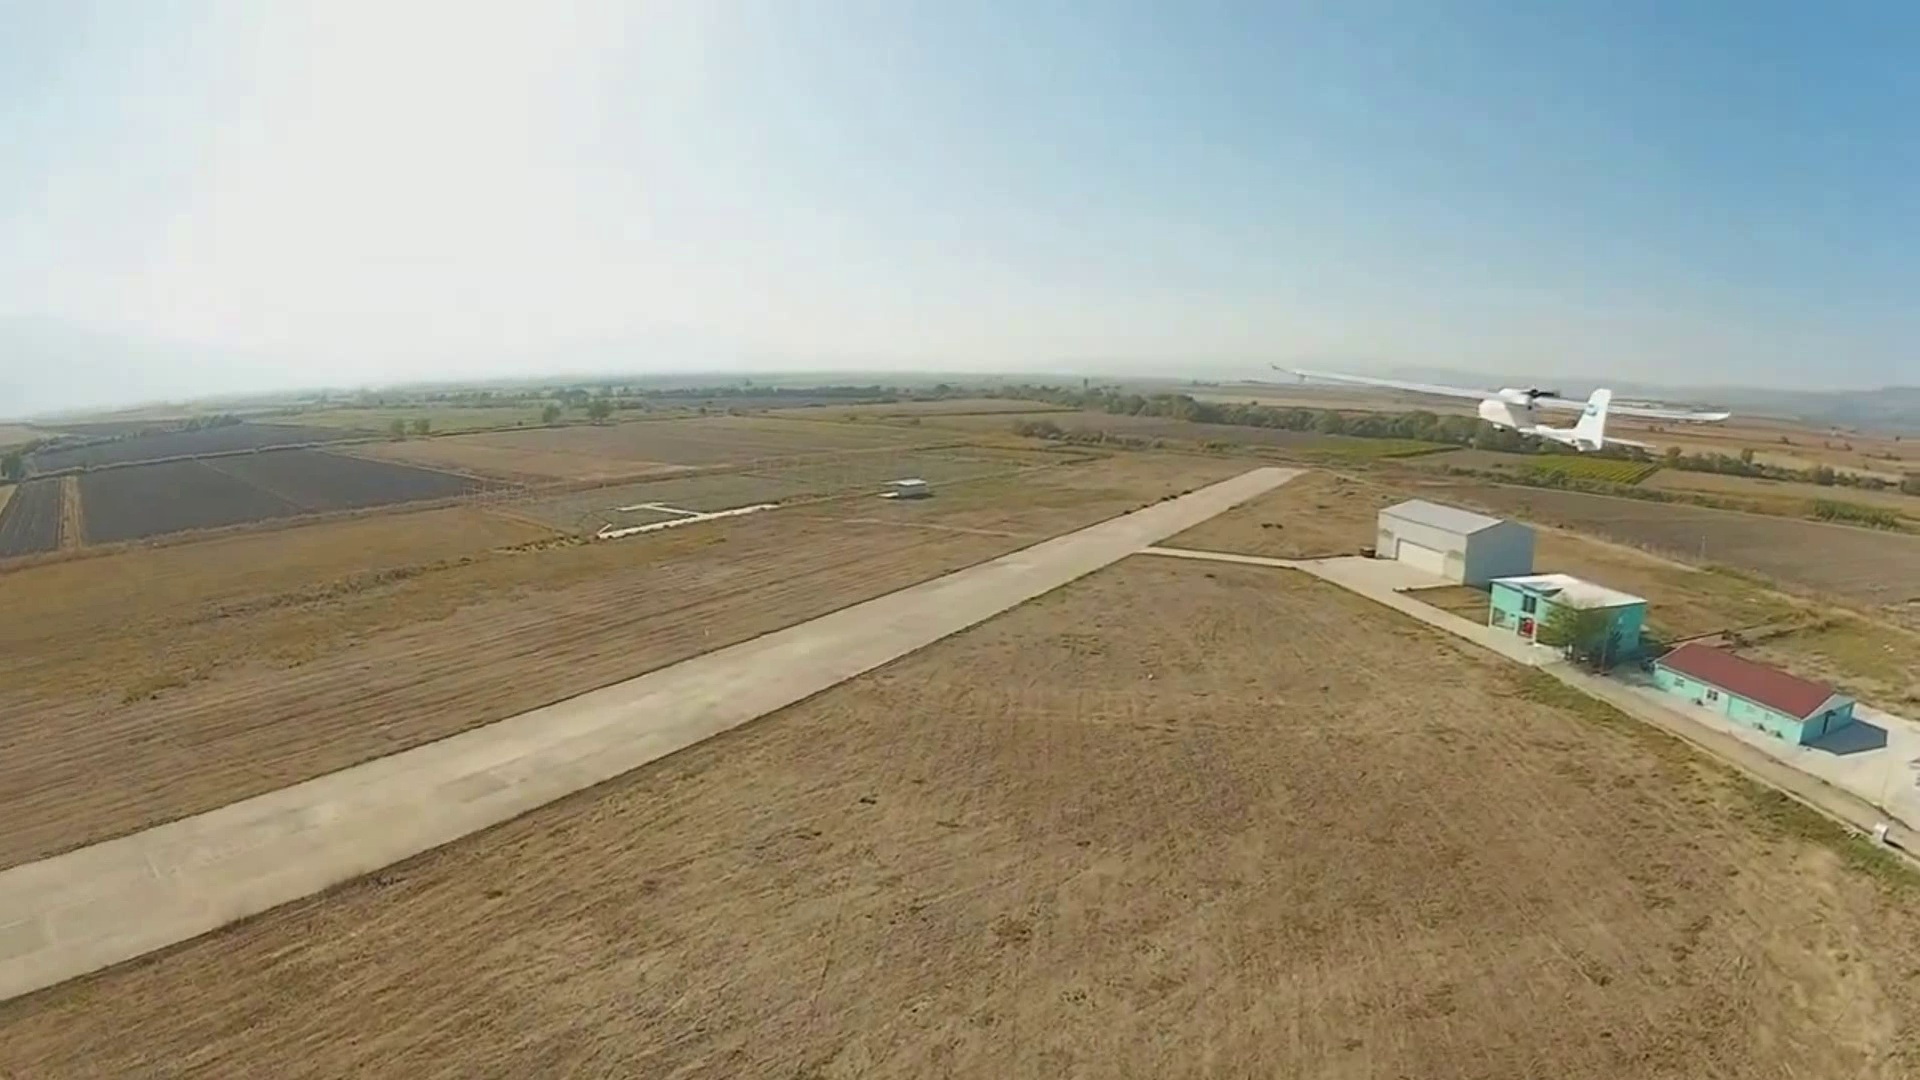airplane: (1476, 386, 1613, 454)
